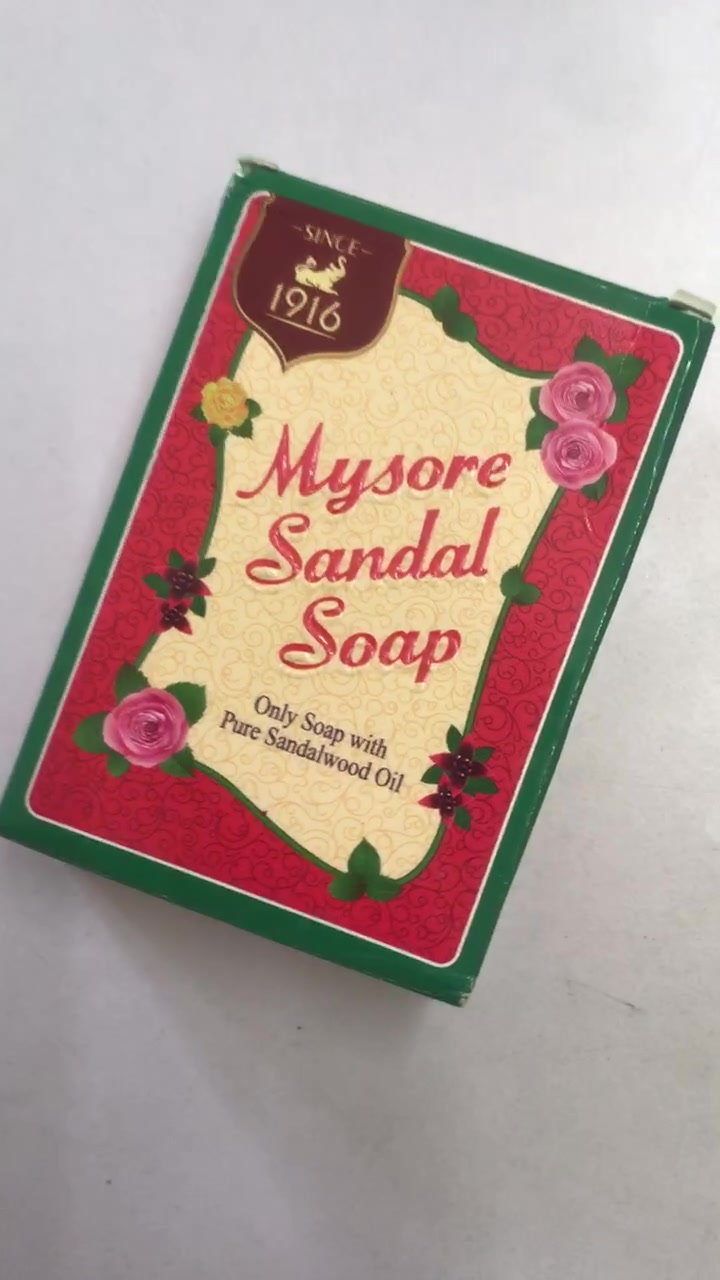mysore sandal soap: (8, 157, 716, 1010)
